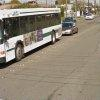Bus: (3, 2, 63, 63)
